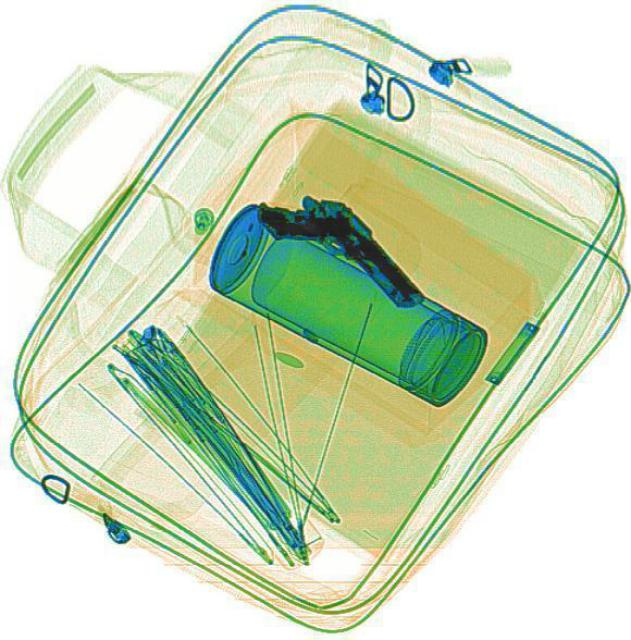Gun: (246, 160, 423, 344)
